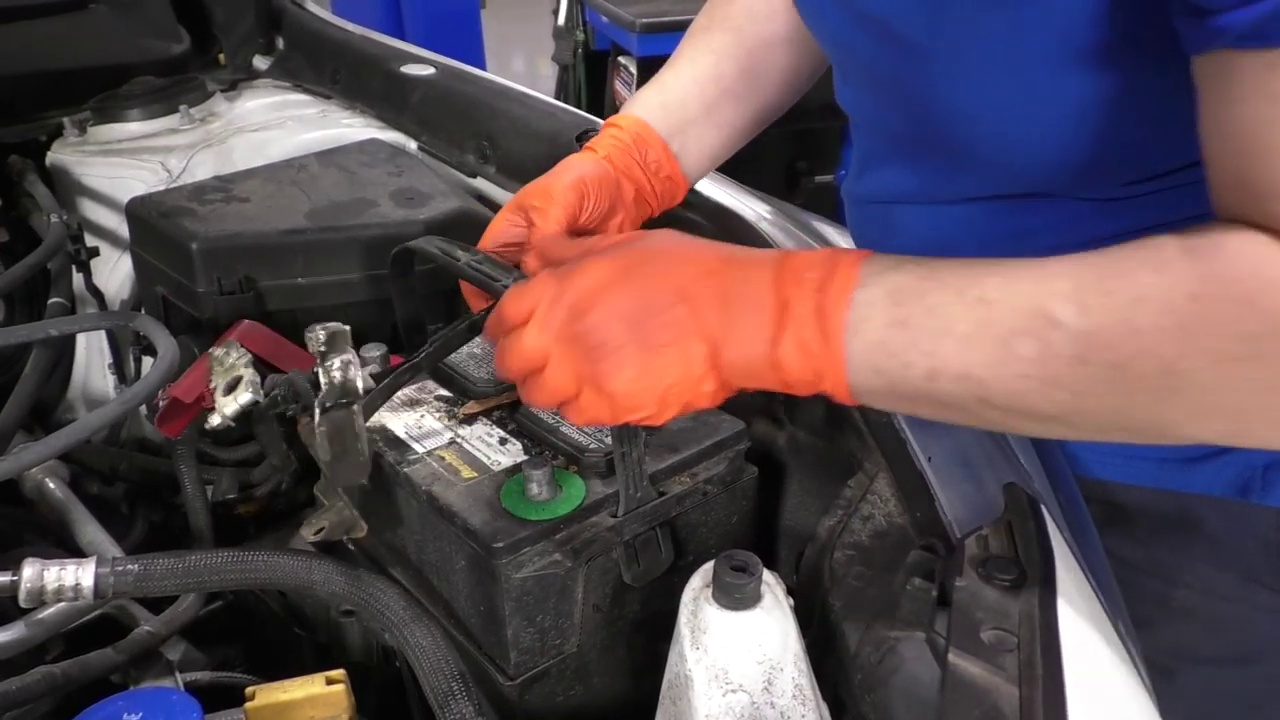battery: (301, 303, 750, 532)
